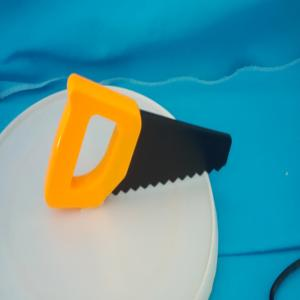serrote: (44, 72, 233, 211)
